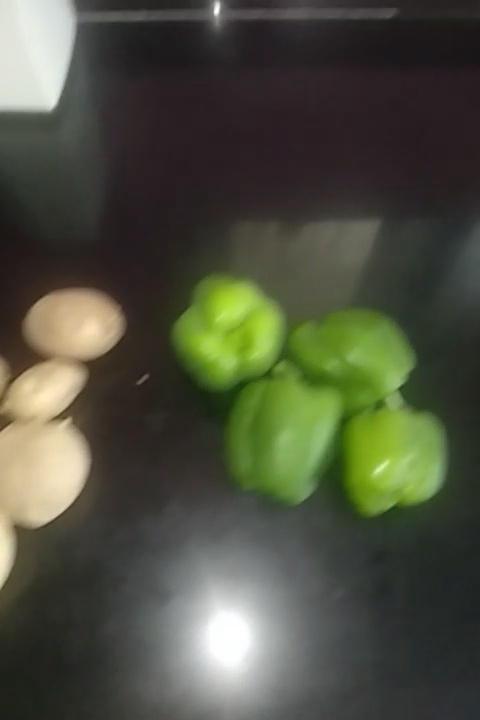capsicum: (220, 367, 346, 500), (345, 399, 459, 525), (287, 300, 418, 406), (176, 283, 277, 383)
potato: (1, 424, 90, 517), (20, 294, 124, 359), (1, 361, 85, 419)
